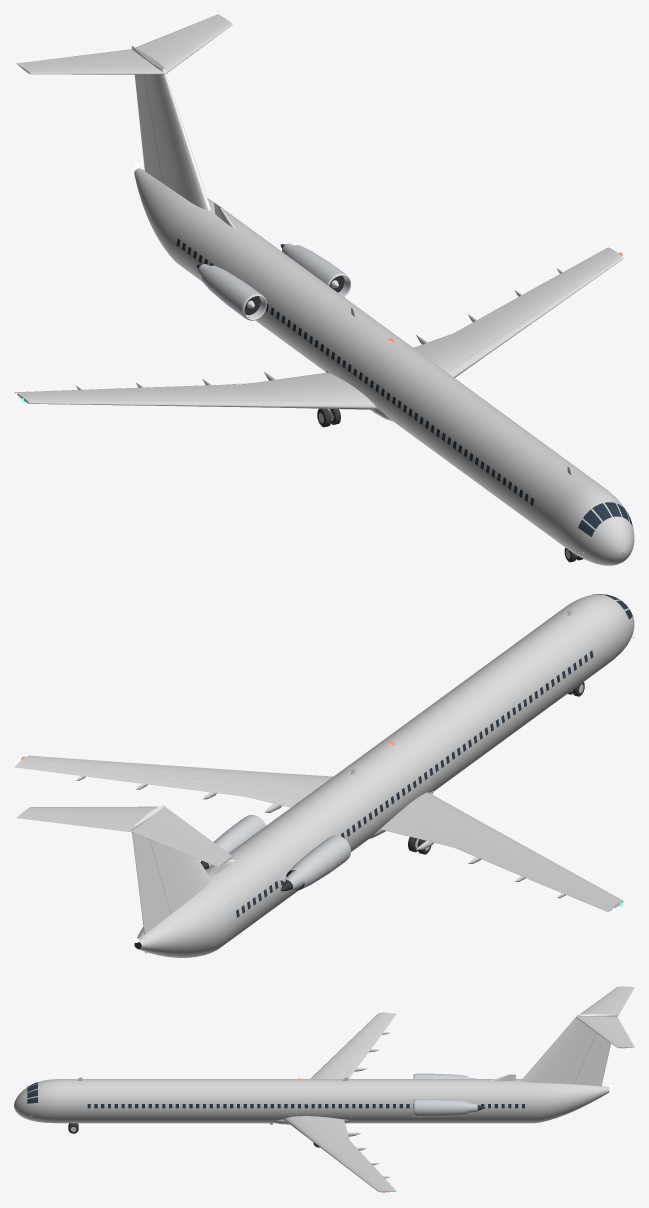
3 renders of one model, top to bottom at view 1: azimuth 30°, elevation 25°; view 2: azimuth 150°, elevation 25°; view 3: azimuth 270°, elevation 25°, orthographic. The views are drawn at different scales.
Parts seen in each view (by area): view 1: airframe; view 2: airframe; view 3: airframe.
Boxes of the visible parts, x1,y1,x2,y2 form: airframe: (14, 14, 634, 565); airframe: (14, 594, 634, 957); airframe: (14, 986, 634, 1193).
Size of the model in its own units: 33.27 by 10.08 by 48.51.
